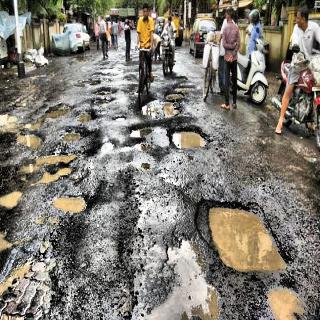pothole: (203, 182, 295, 272), (155, 229, 204, 320), (252, 276, 320, 320), (24, 148, 80, 182), (165, 125, 218, 152), (50, 192, 90, 214), (143, 102, 186, 120), (0, 181, 24, 213), (23, 106, 70, 122), (0, 221, 23, 250), (91, 85, 118, 109), (98, 60, 127, 82), (1, 261, 34, 280), (159, 85, 200, 100), (16, 129, 48, 148), (93, 133, 117, 157), (0, 108, 18, 136), (58, 126, 84, 142), (76, 105, 98, 123), (120, 138, 140, 156), (127, 124, 156, 136), (139, 157, 159, 174), (71, 75, 93, 87), (112, 110, 126, 128), (140, 140, 156, 154), (75, 55, 92, 66), (173, 76, 190, 81)
